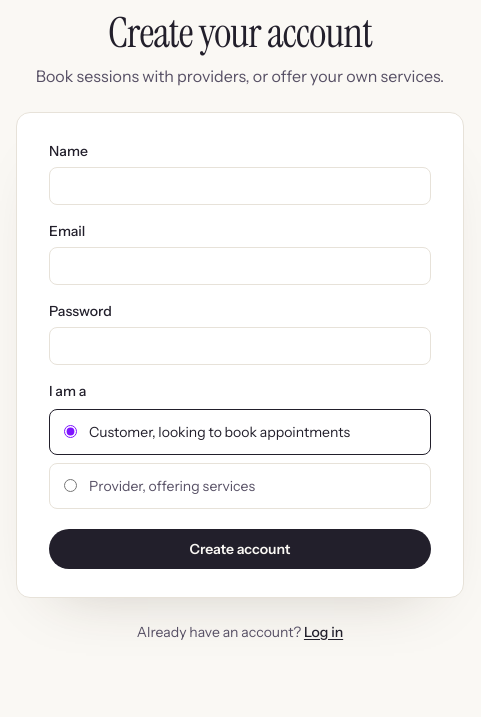
Register › shows the API error message when registration fails
Type "Riley Customer" into the field labelled "Name".
click(240, 186); type("Riley Customer")  # box x1=49 y1=167 x2=431 y2=205
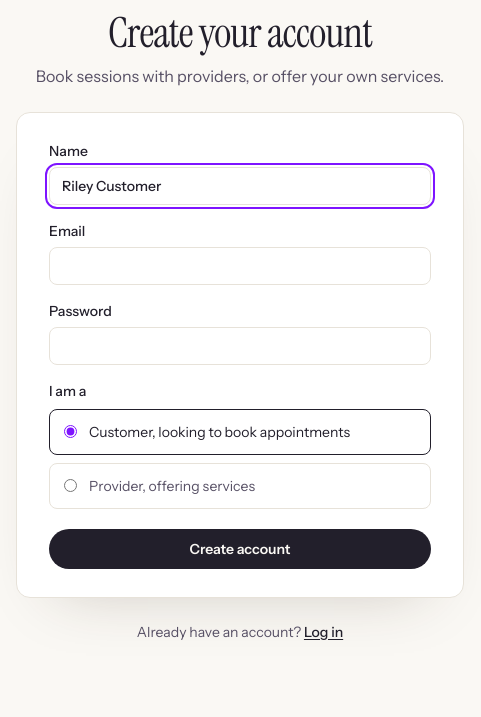
Type "riley@example.com" into the field labelled "Email".
click(240, 266); type("riley@example.com")  # box x1=49 y1=247 x2=431 y2=285
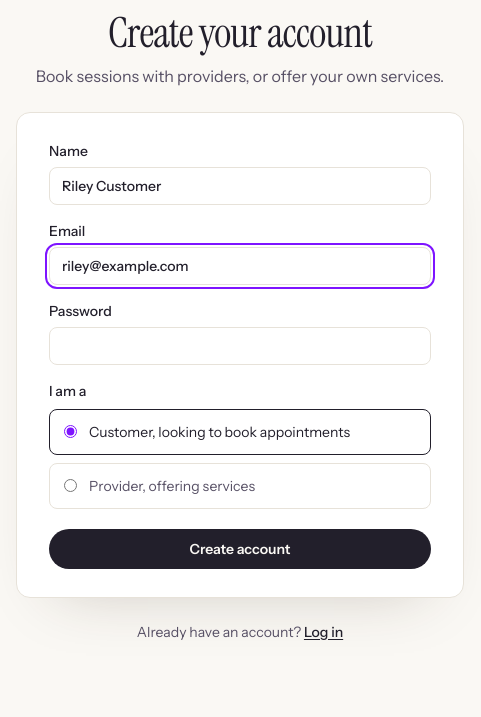
Type "supersecret1" into the password field labelled "Password".
click(240, 346); type("supersecret1")  # box x1=49 y1=327 x2=431 y2=365
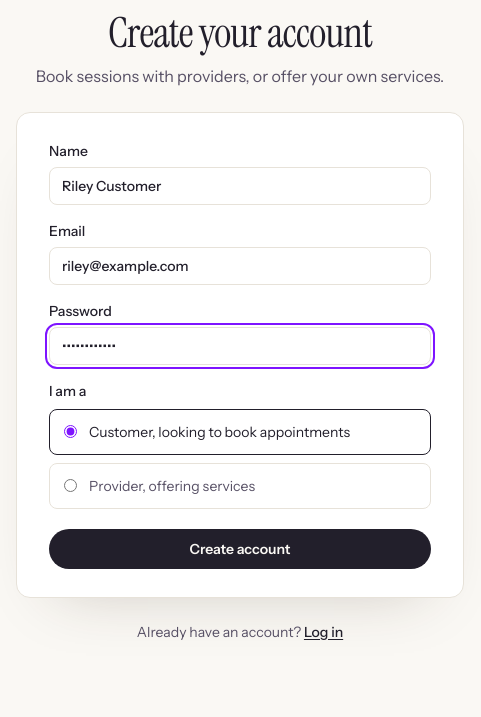
Click the button "Create account".
click(240, 549)  # box x1=49 y1=529 x2=431 y2=569
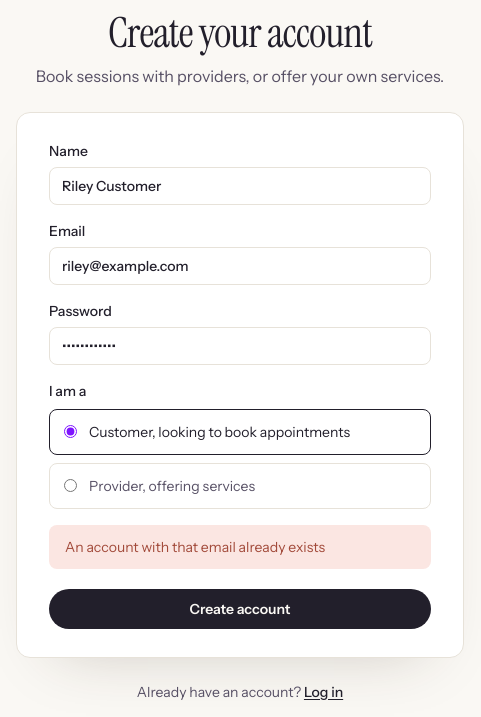
expect the text "An account with that email already exists" is shown: met, box x1=49 y1=525 x2=431 y2=569
